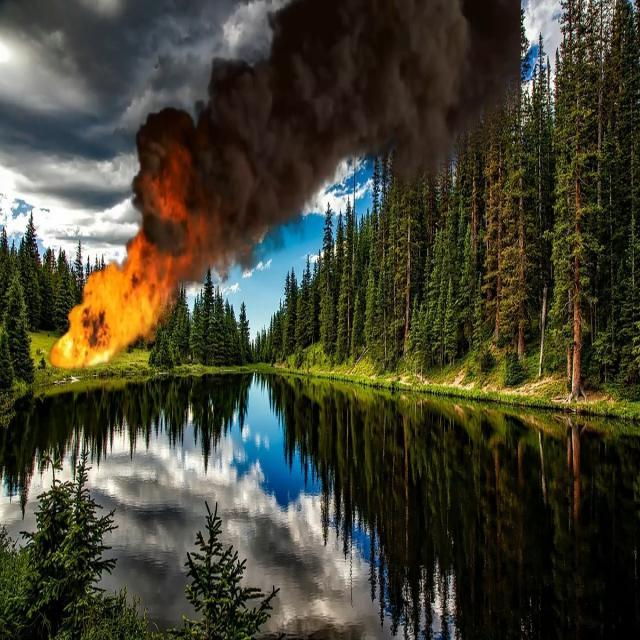Fire: (60, 220, 158, 369)
Smoke: (212, 7, 520, 249)
